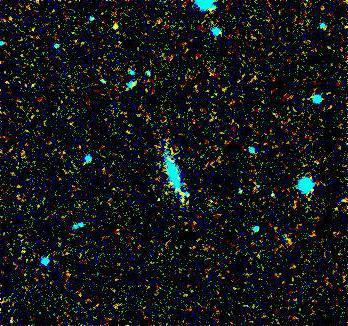star: (101, 13, 131, 43)
